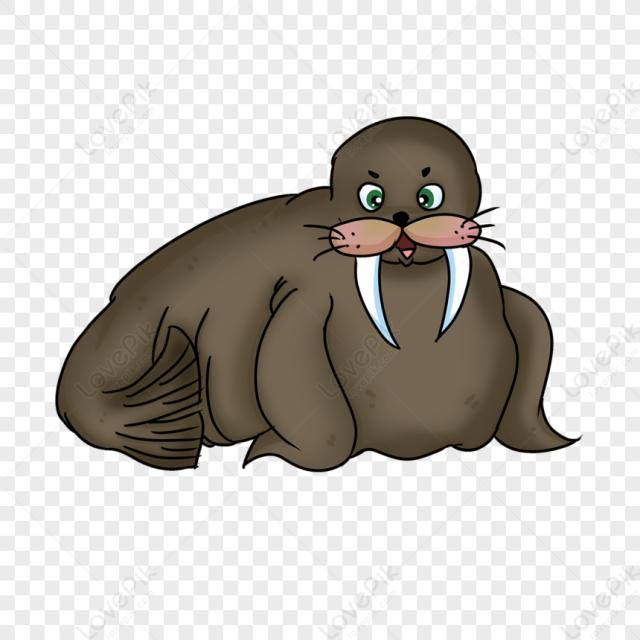walrus: (41, 111, 588, 482)
